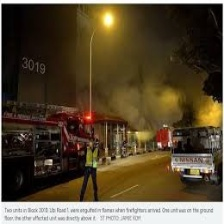smoke: (106, 28, 218, 127)
